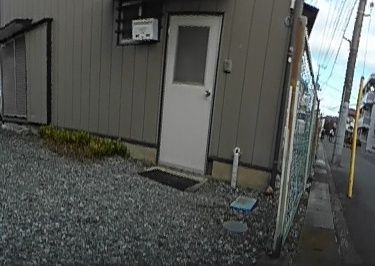person: (326, 126, 334, 142)
